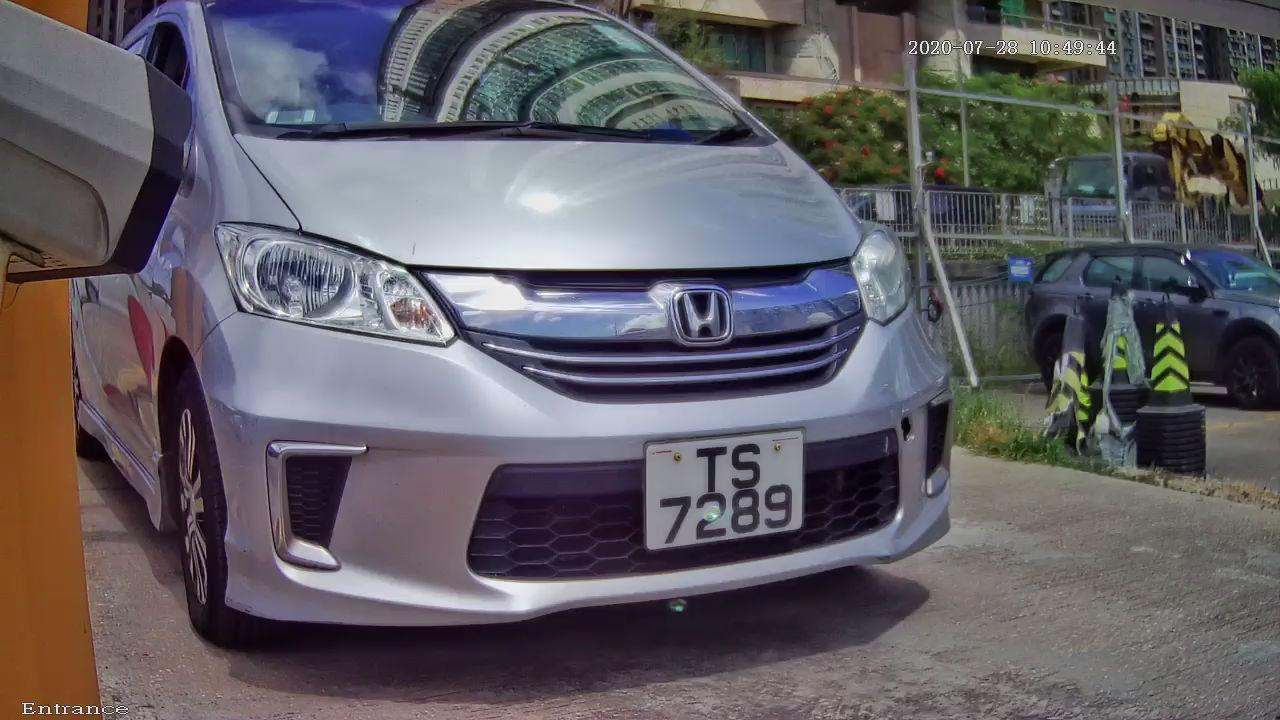privatecar: (35, 10, 1098, 685)
